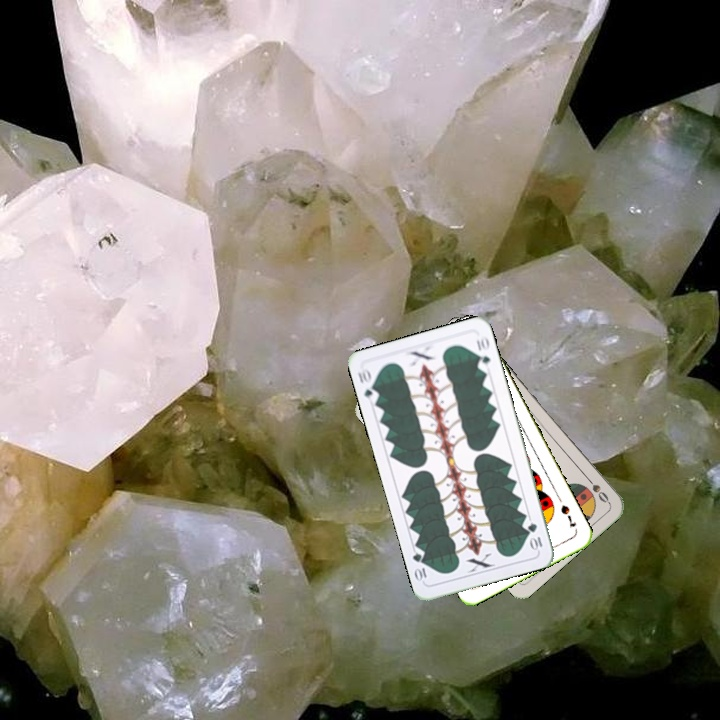G10: (354, 364, 381, 405), (524, 519, 545, 553)
S7: (556, 501, 578, 531)
SO: (581, 472, 612, 506)
